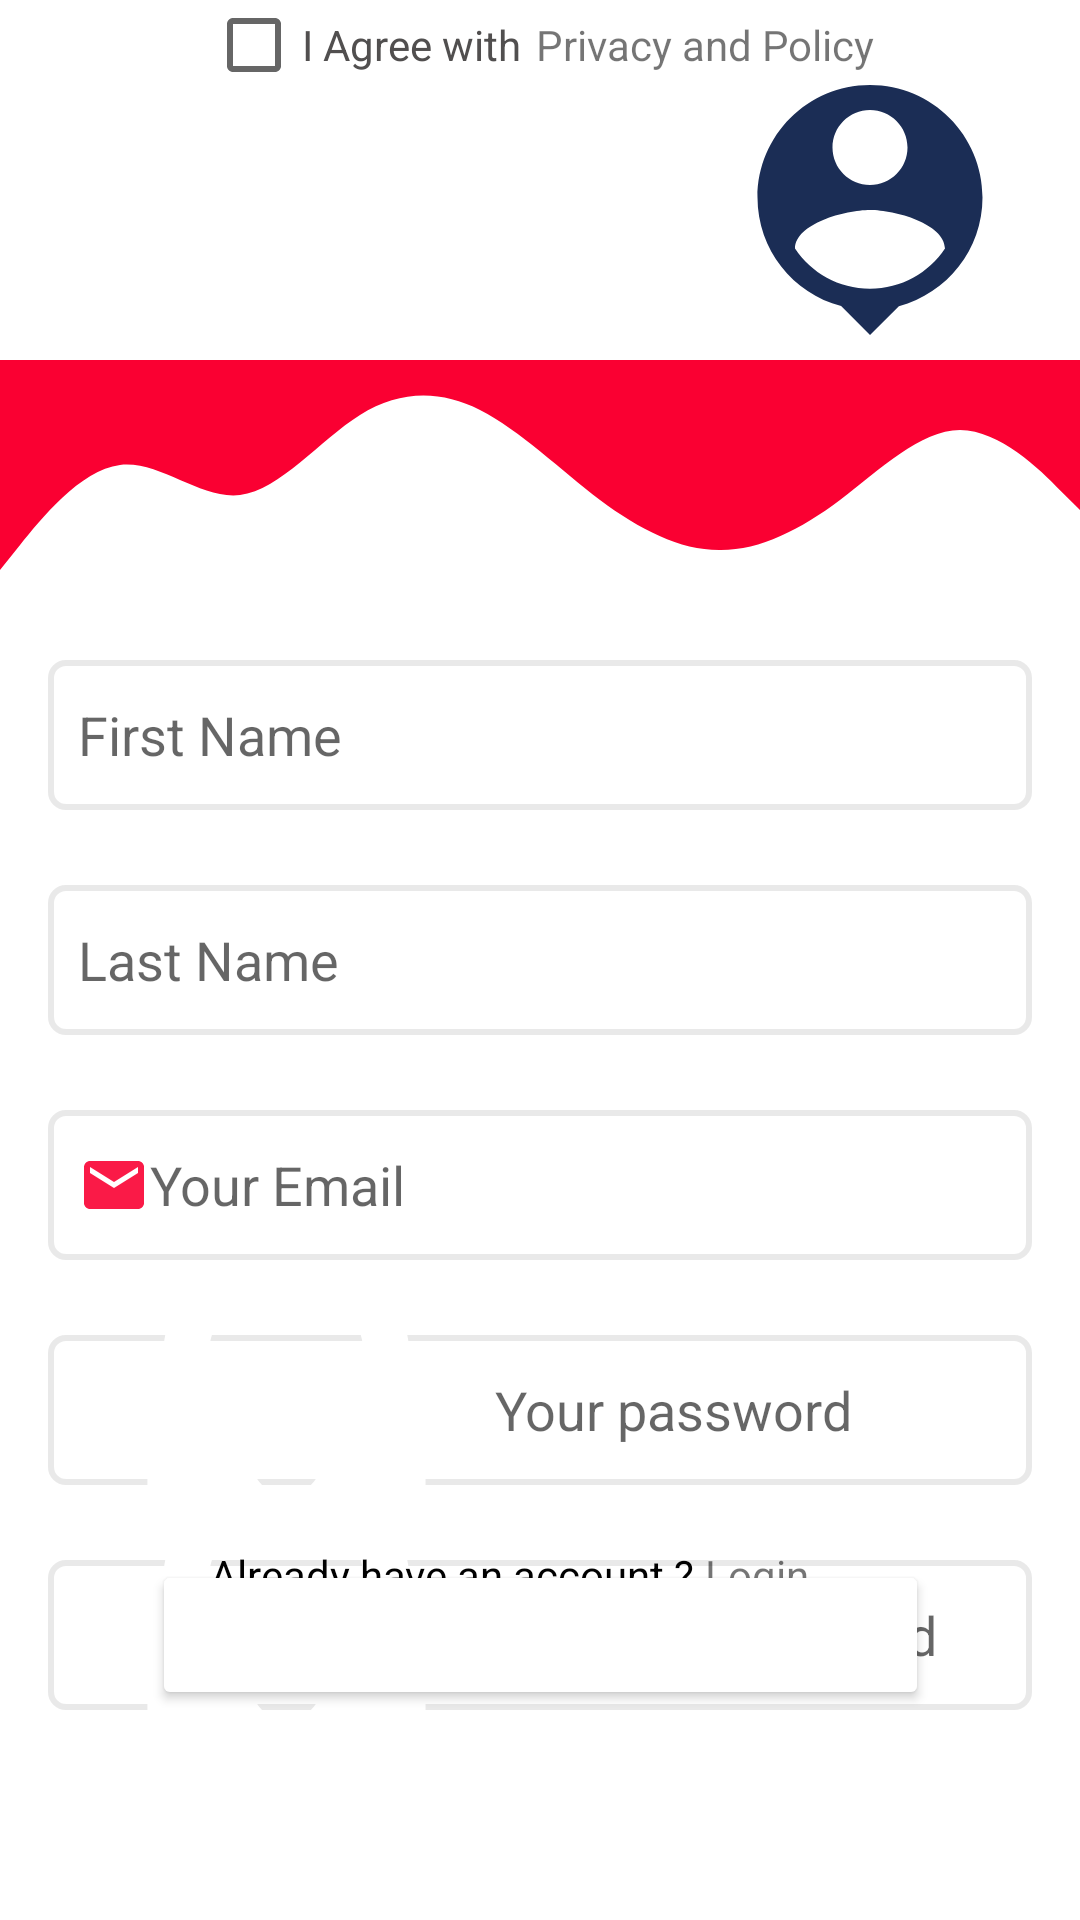

Point at icon controls on the screen. Image size 1080 × 1920, points as [x,y].
person pin: [870,210]
